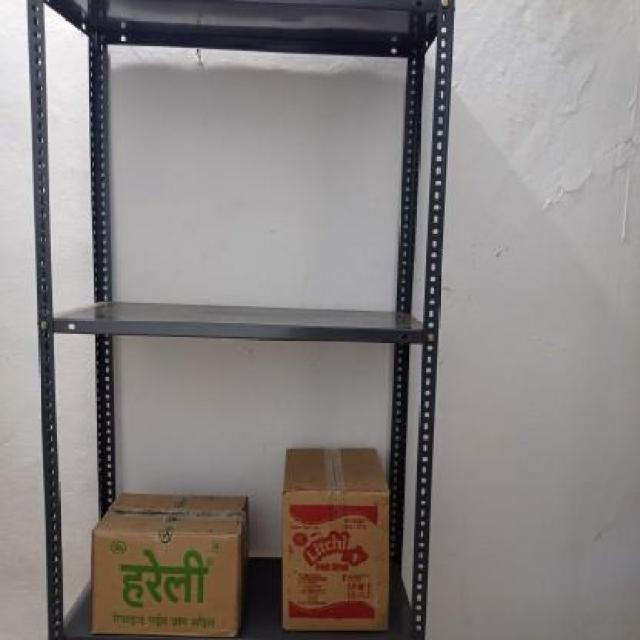box: (89, 528, 242, 636), (282, 487, 390, 630)
